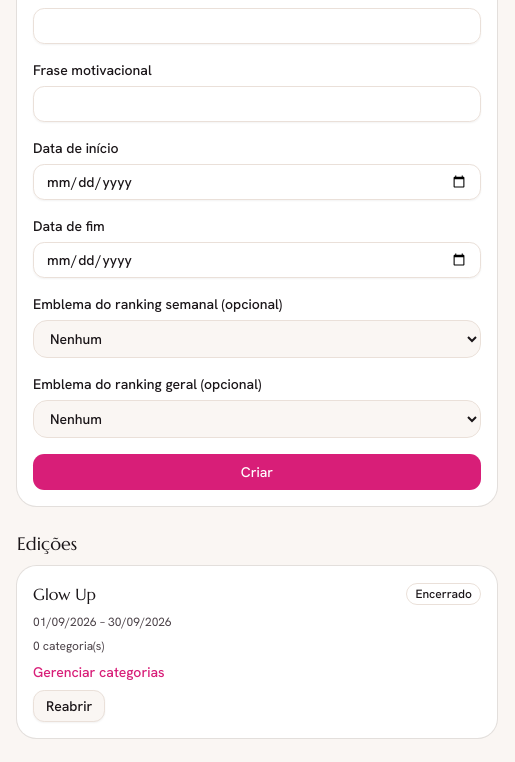
Test: DesafiosPage › mostra a mensagem de erro original quando reabrir falha
(page scrolled)
Click the button "Reabrir": (69, 706) [33,690,105,722]
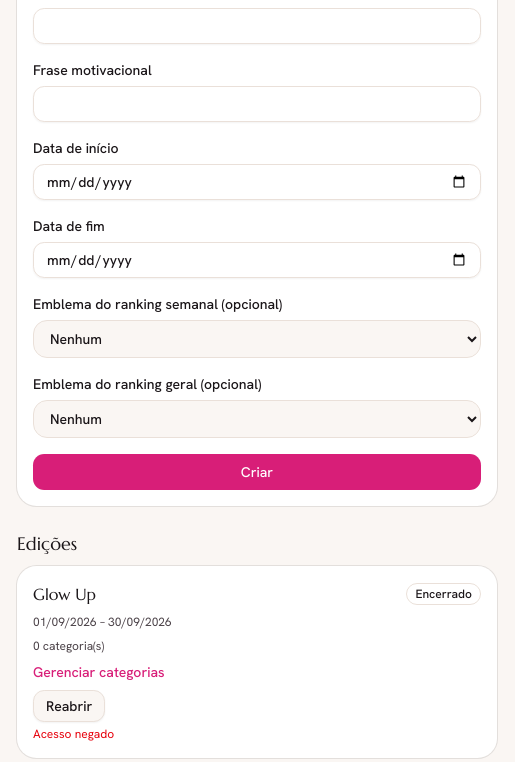
Check: the message reads "Acesso negado", box [33,726,114,742]
